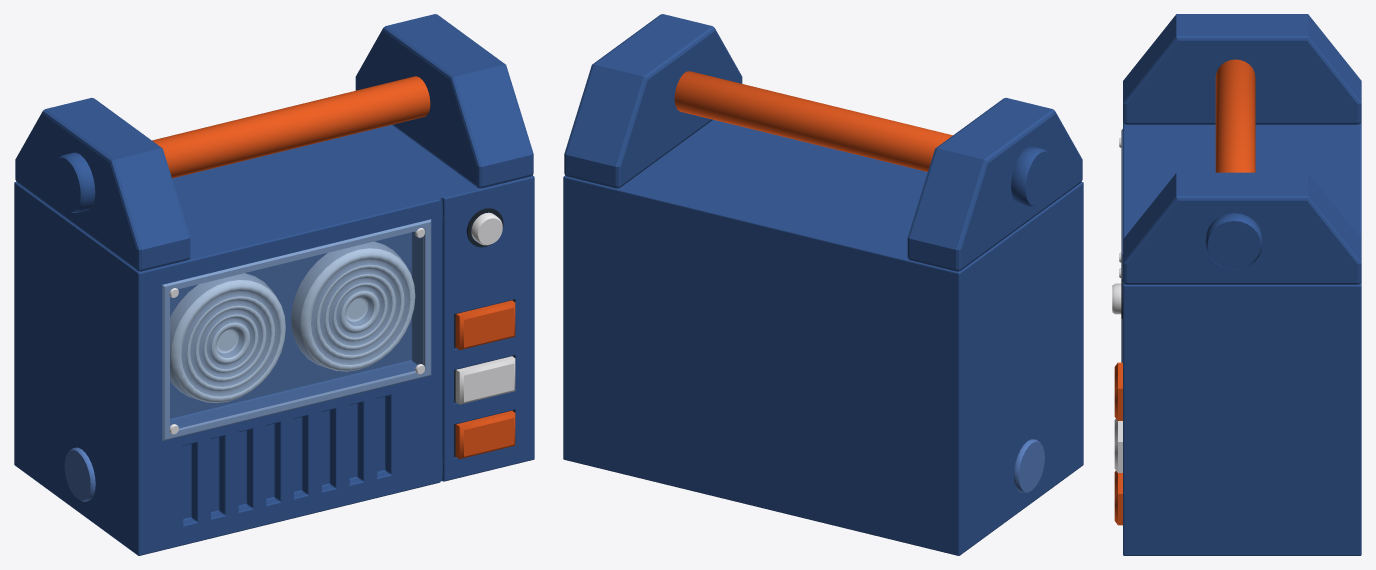
The model's file is recorder_procedural_web.glb.
3 views of the same model, side by side, from view 1: azimuth 30°, elevation 25°; view 2: azimuth 150°, elevation 25°; view 3: azimuth 270°, elevation 25° (orthographic). The views are drawn at different scales.
Visible parts, largest first — view 1: Mesh_0; view 2: Mesh_0; view 3: Mesh_0.
Part boxes in pixels (box(x1,y1,x2,y2)): Mesh_0: box(14, 14, 534, 555); Mesh_0: box(563, 14, 1083, 555); Mesh_0: box(1112, 14, 1361, 555).
Bounding box in the file's own units: 2.07 × 1.75 × 1.1.
